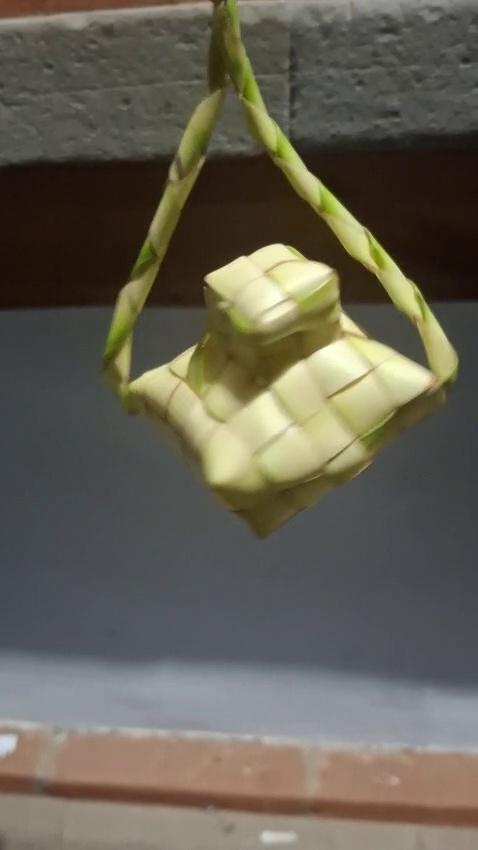Tipat Gong: (97, 1, 463, 551)
